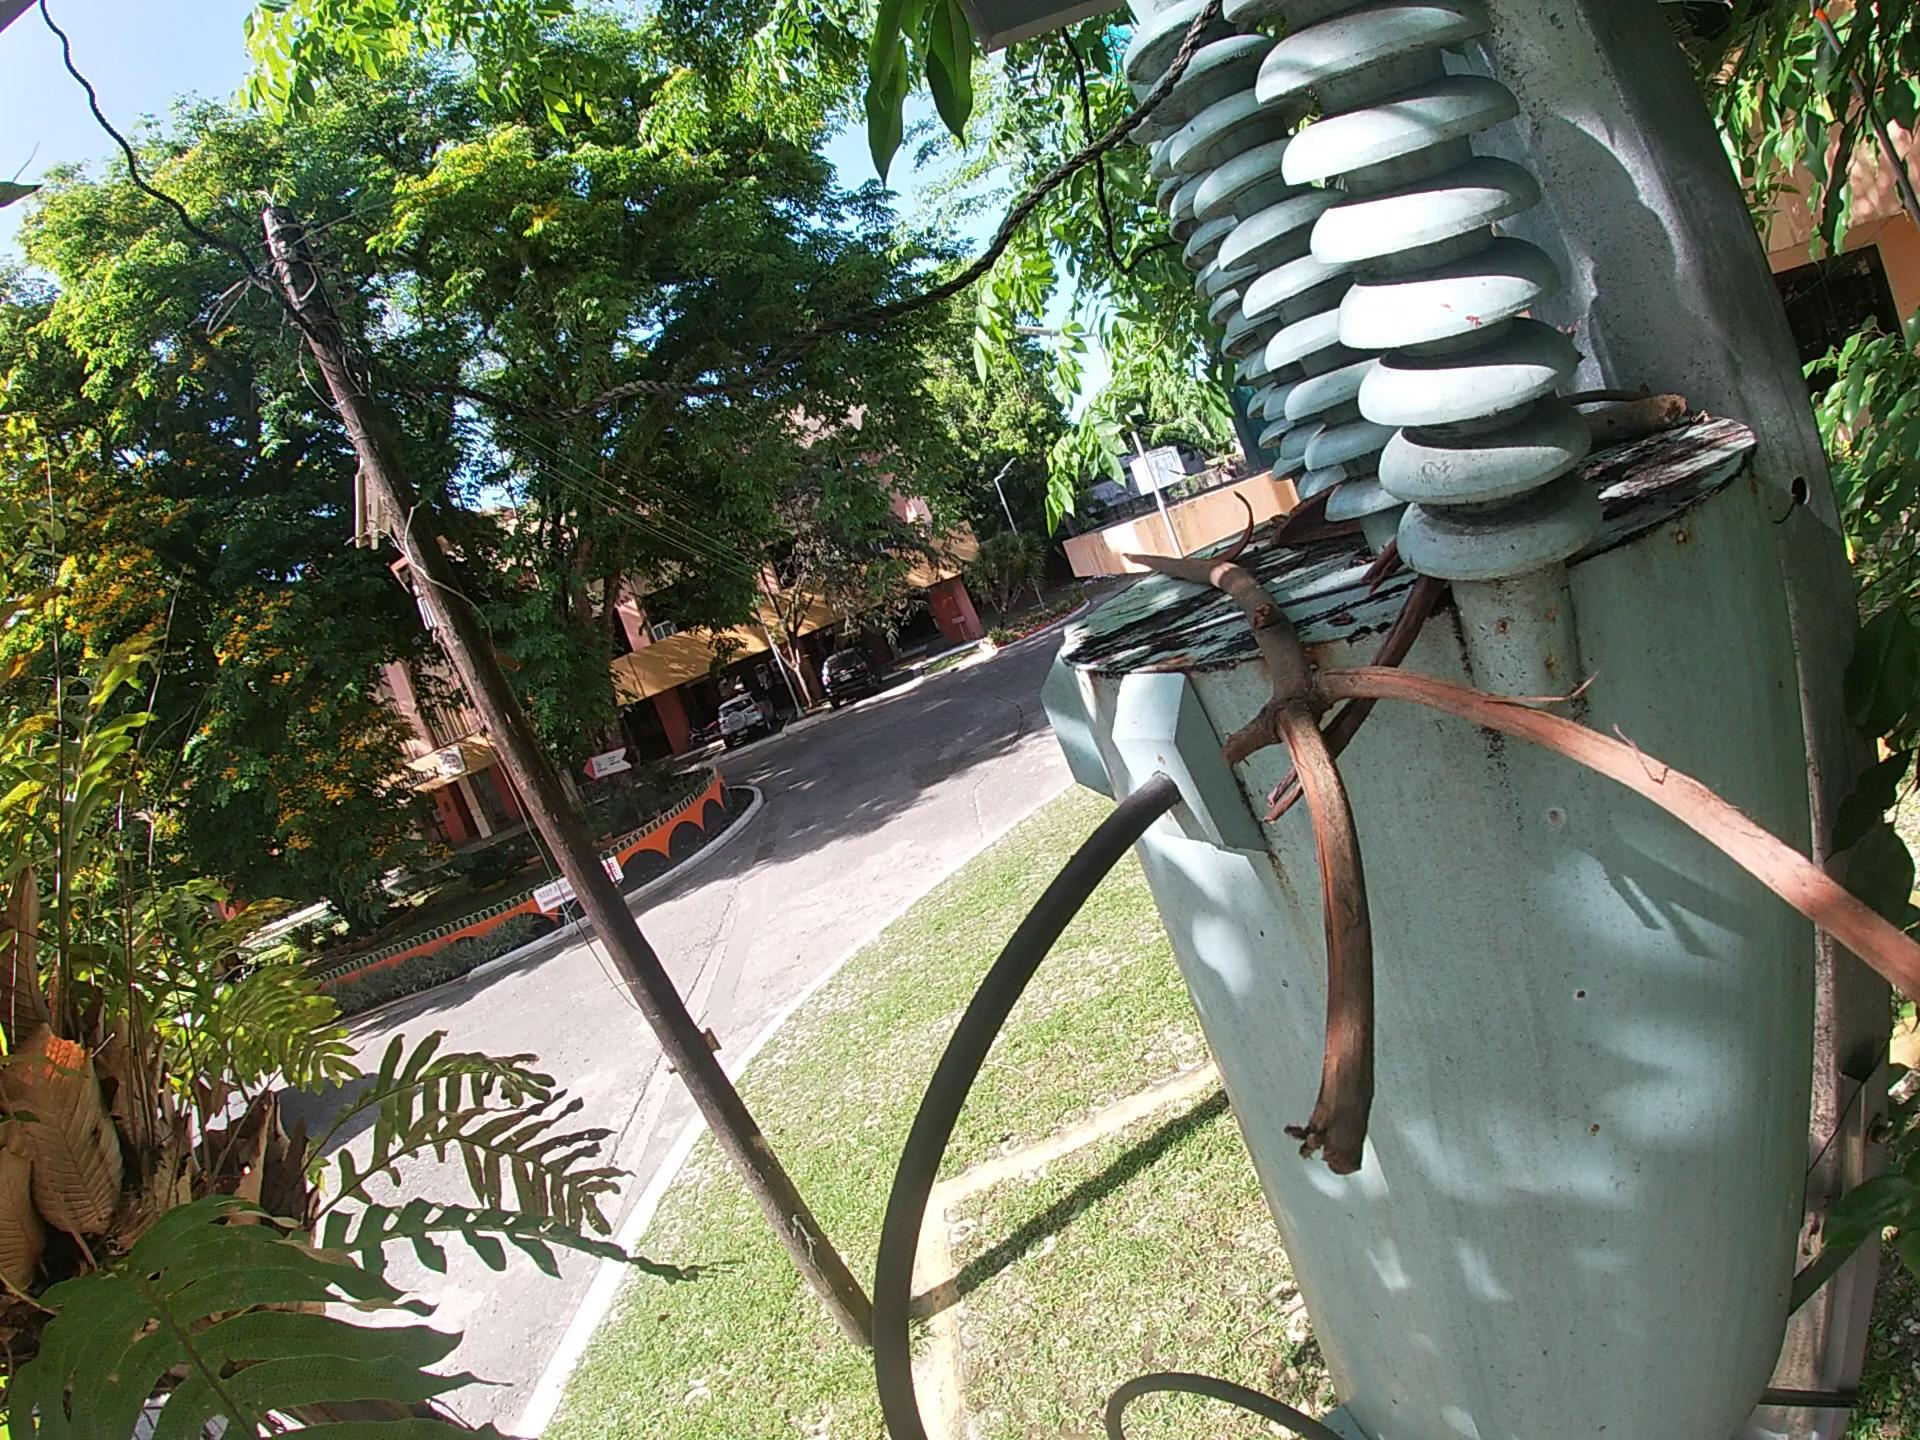mahogany fruit: (1262, 479, 1364, 555), (1219, 490, 1256, 566)
tree branch: (1117, 548, 1920, 1190), (1249, 535, 1463, 839), (1578, 383, 1701, 455)
